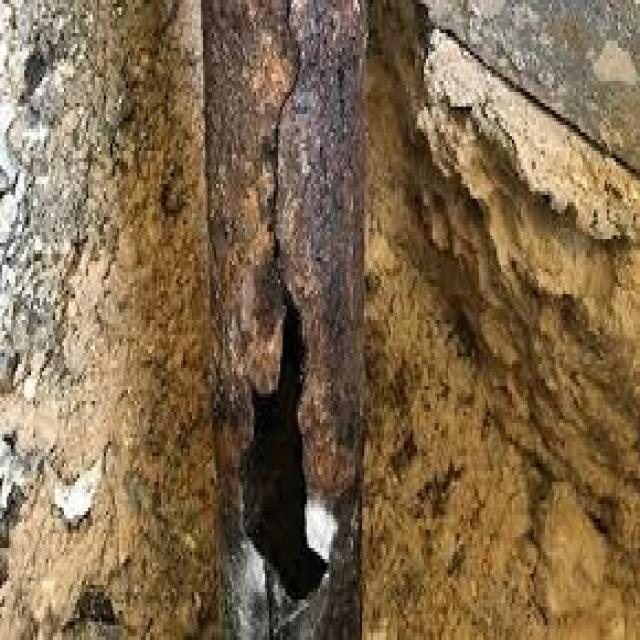crack: (264, 7, 308, 266)
hole: (238, 292, 329, 611)
